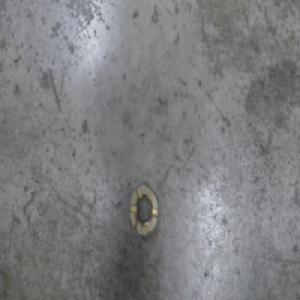Nut: (129, 179, 161, 239)
